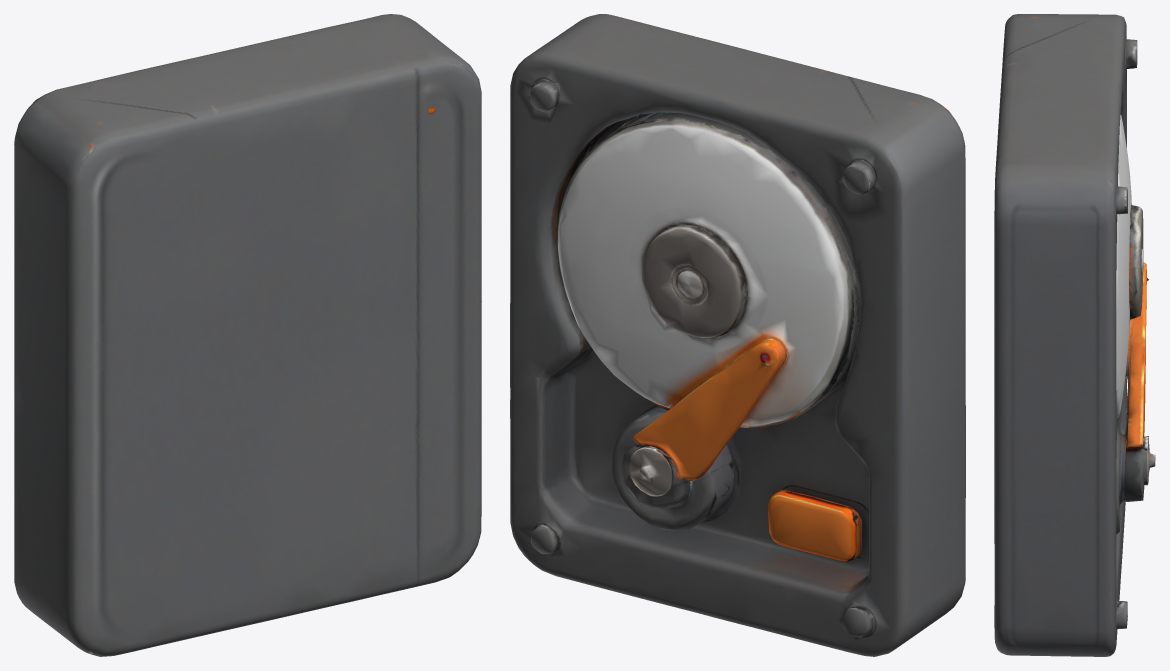
File: Gadolinio.fbx
3 views of the same model, side by side, from view 1: azimuth 30°, elevation 25°; view 2: azimuth 150°, elevation 25°; view 3: azimuth 270°, elevation 25° (orthographic). The views are drawn at different scales.
Visible parts, largest first — view 1: Mesh_0.023; view 2: Mesh_0.023; view 3: Mesh_0.023.
Part boxes in pixels (x1,y1,x2,y2): Mesh_0.023: (14, 14, 481, 656); Mesh_0.023: (510, 14, 965, 656); Mesh_0.023: (994, 14, 1155, 656).
Size of the model in its own units: 29.49 by 80.58 by 99.06.
Materials: 1 (1 with a texture image).
